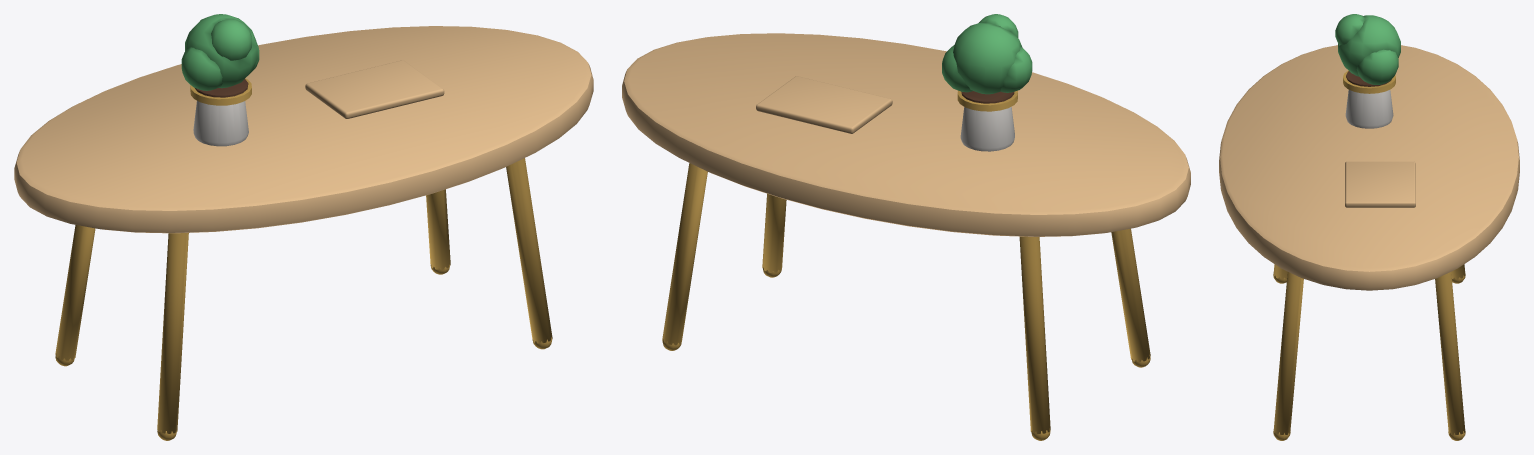
The model's file is coffee-table-oval.glb.
3 views of the same model, side by side, from view 1: azimuth 30°, elevation 25°; view 2: azimuth 150°, elevation 25°; view 3: azimuth 270°, elevation 25° (orthographic). The views are drawn at different scales.
Visible parts, largest first — view 1: coffee-table-oval; view 2: coffee-table-oval; view 3: coffee-table-oval.
Boxes of the visible parts, bbox=[...] form: coffee-table-oval: bbox=[14, 14, 593, 440]; coffee-table-oval: bbox=[622, 14, 1190, 440]; coffee-table-oval: bbox=[1219, 14, 1519, 440].
Bounding box in the file's own units: 1 × 0.6275 × 0.55.
